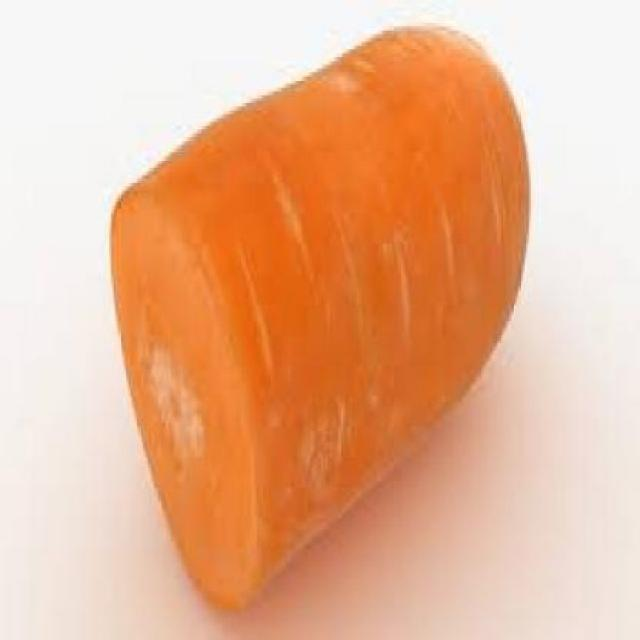carrot: (109, 21, 534, 614)
